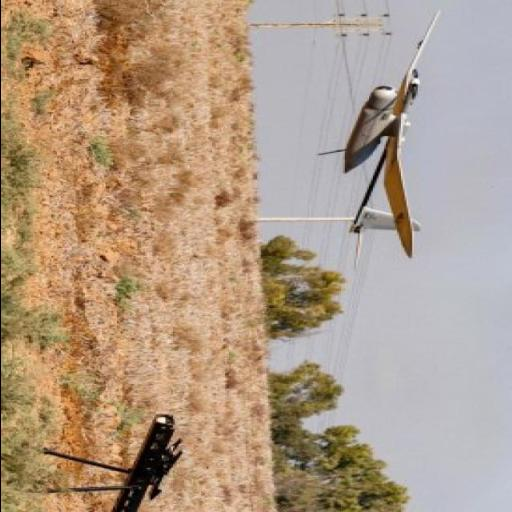uav: (324, 10, 454, 260)
